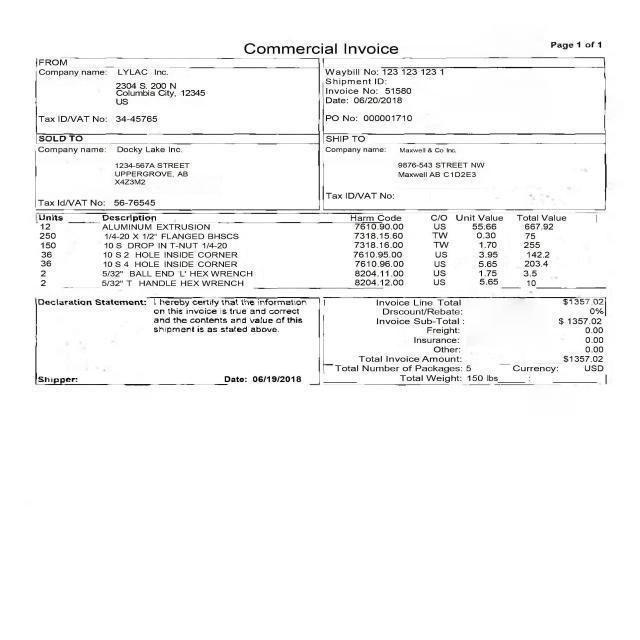paragraph: (332, 298, 612, 392), (33, 296, 317, 352), (322, 135, 490, 212), (35, 132, 199, 209), (33, 57, 208, 127), (322, 63, 455, 125), (33, 367, 307, 394), (241, 37, 405, 60), (548, 38, 614, 54)
table: (31, 208, 586, 292)
